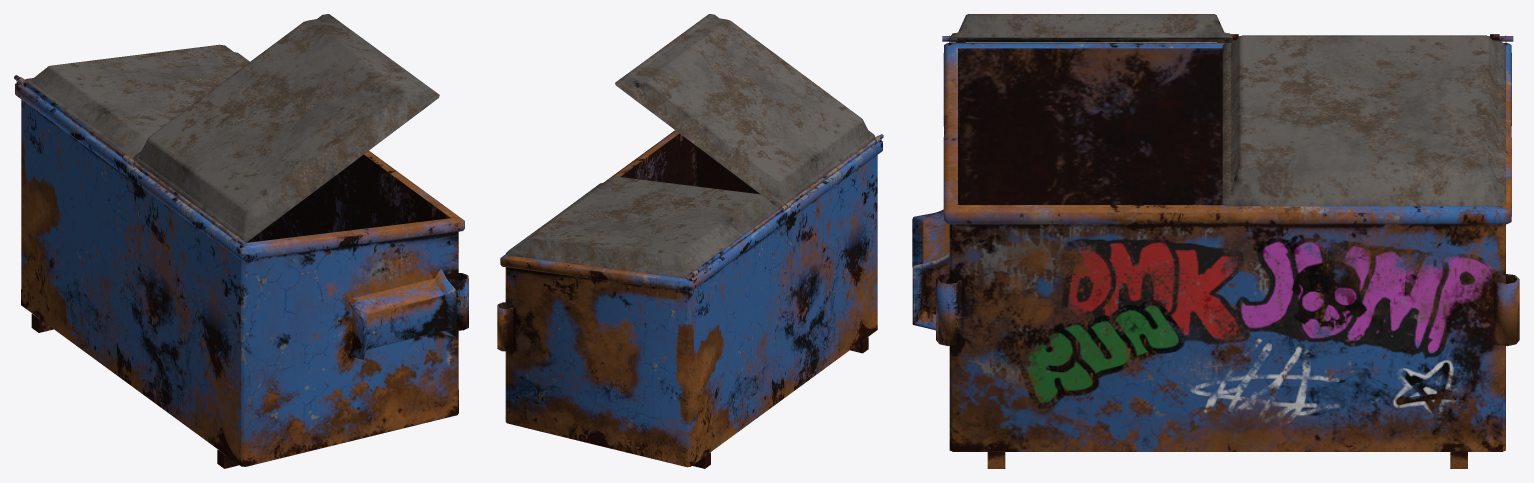
Rendered from trashbin.fbx.
The picture shows the model from 3 angles, left to right: view 1: azimuth 30°, elevation 25°; view 2: azimuth 150°, elevation 25°; view 3: azimuth 270°, elevation 25°; orthographic projection. The views are drawn at different scales.
Visible parts, largest first — view 1: Cube.001, Cube.002, Cube.004, Cube.003; view 2: Cube.001, Cube.002, Cube.004, Cube.003; view 3: Cube.001, Cube.004, Cube.002.
Part boxes in pixels (x1,y1,x2,y2): Cube.001: (15,76,468,468); Cube.002: (18,14,439,244); Cube.004: (25,44,249,158); Cube.003: (14,75,246,246); Cube.001: (497,130,882,468); Cube.002: (615,14,880,277); Cube.004: (506,176,779,278); Cube.003: (686,134,883,280); Cube.001: (912,35,1519,468); Cube.004: (1222,35,1505,206); Cube.002: (949,14,1499,43).
Size of the model in its own units: 211 by 299 by 388.
1 material, 1 textured.
